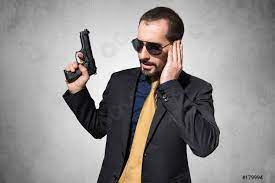gun: (62, 29, 99, 83)
